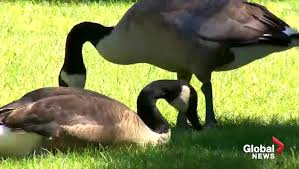goose: (55, 1, 299, 127), (1, 79, 202, 154)
